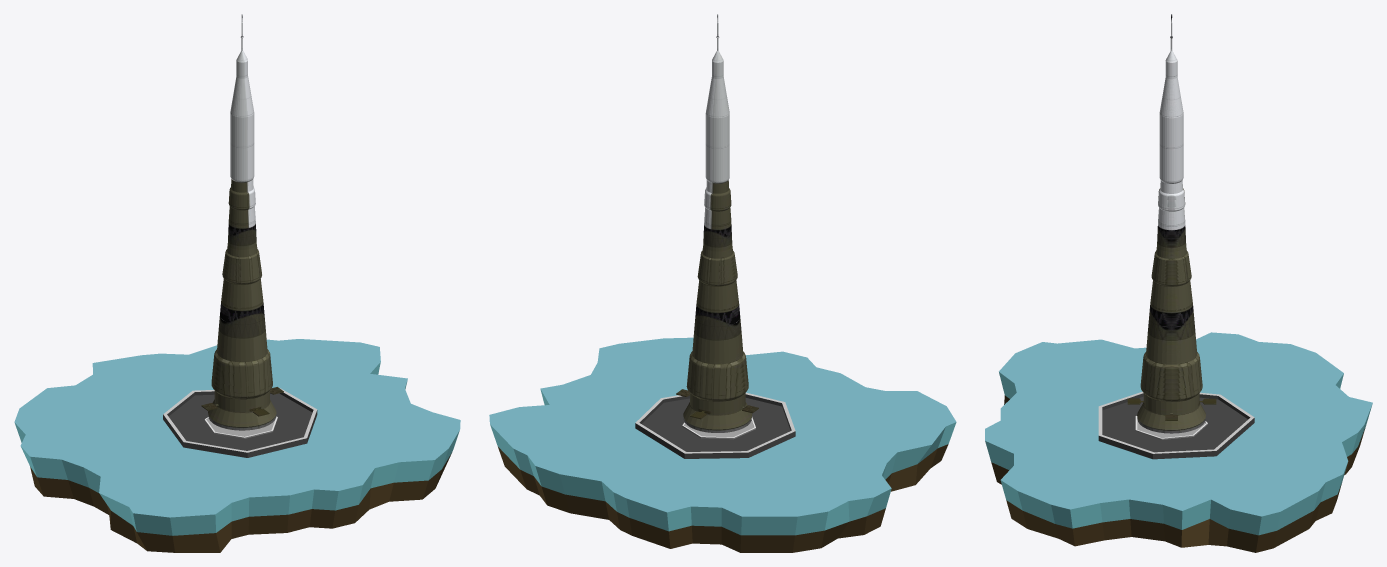
3 renders of one model, left to right at view 1: azimuth 30°, elevation 25°; view 2: azimuth 150°, elevation 25°; view 3: azimuth 270°, elevation 25°, orthographic.
Parts seen in each view (by area): view 1: Cylinder.005, Cube.001, Cylinder.001, Cylinder.002; view 2: Cylinder.005, Cube.001, Cylinder.001; view 3: Cylinder.005, Cube.001, Cylinder.001, Cylinder.002.
Boxes of the visible parts, bbox=[...] form: Cylinder.005: bbox=[14, 339, 460, 552]; Cube.001: bbox=[201, 14, 283, 430]; Cylinder.001: bbox=[163, 388, 317, 457]; Cylinder.002: bbox=[204, 416, 277, 438]; Cylinder.005: bbox=[489, 337, 956, 552]; Cube.001: bbox=[676, 14, 758, 432]; Cylinder.001: bbox=[635, 392, 795, 458]; Cylinder.005: bbox=[985, 332, 1372, 552]; Cube.001: bbox=[1127, 14, 1216, 433]; Cylinder.001: bbox=[1098, 391, 1254, 459]; Cylinder.002: bbox=[1135, 416, 1207, 439].
Bounding box in the file's own units: 8.06 × 9.29 × 7.18.
9 materials, 1 textured.
